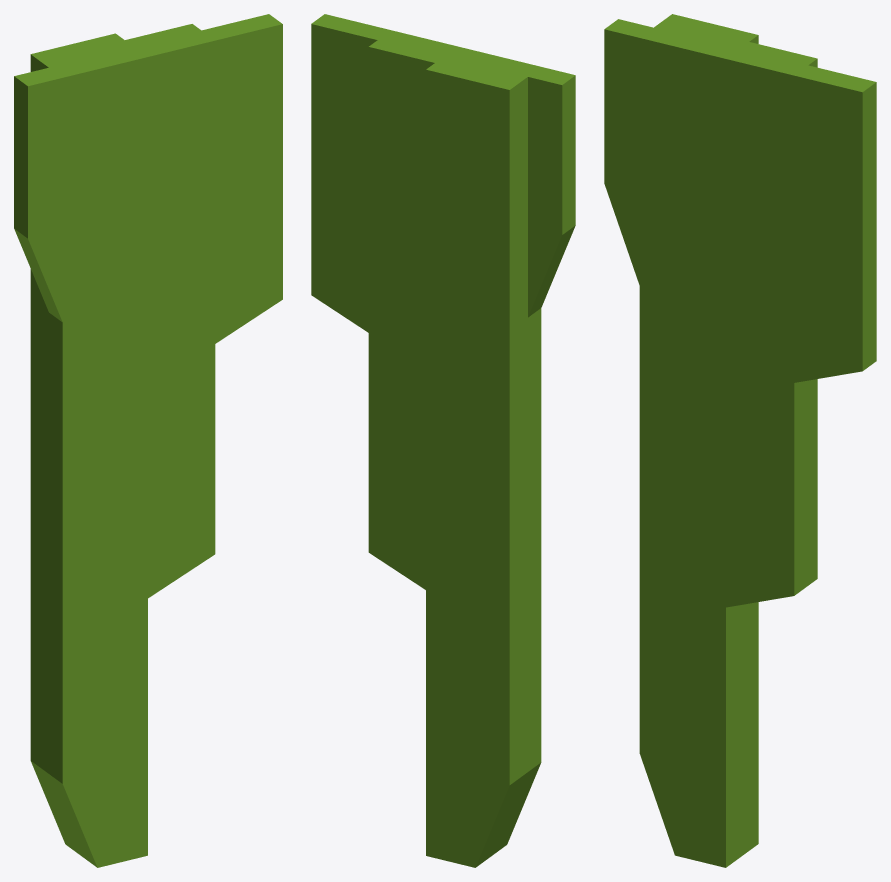
File: hanging_moss.glb
3 views of the same model, side by side, from view 1: azimuth 30°, elevation 25°; view 2: azimuth 150°, elevation 25°; view 3: azimuth 330°, elevation 25° (orthographic). The views are drawn at different scales.
Visible parts, largest first — view 1: hanging_moss; view 2: hanging_moss; view 3: hanging_moss.
Part boxes in pixels (x1,y1,x2,y2): hanging_moss: (14, 14, 282, 867); hanging_moss: (311, 14, 575, 867); hanging_moss: (604, 14, 876, 867).
Bounding box in the file's own units: 0.1598 × 0.4785 × 0.035.
